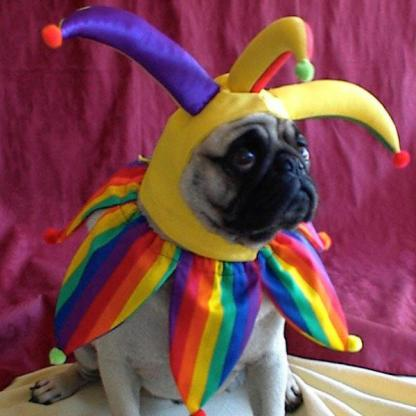pug: (29, 4, 407, 414)
